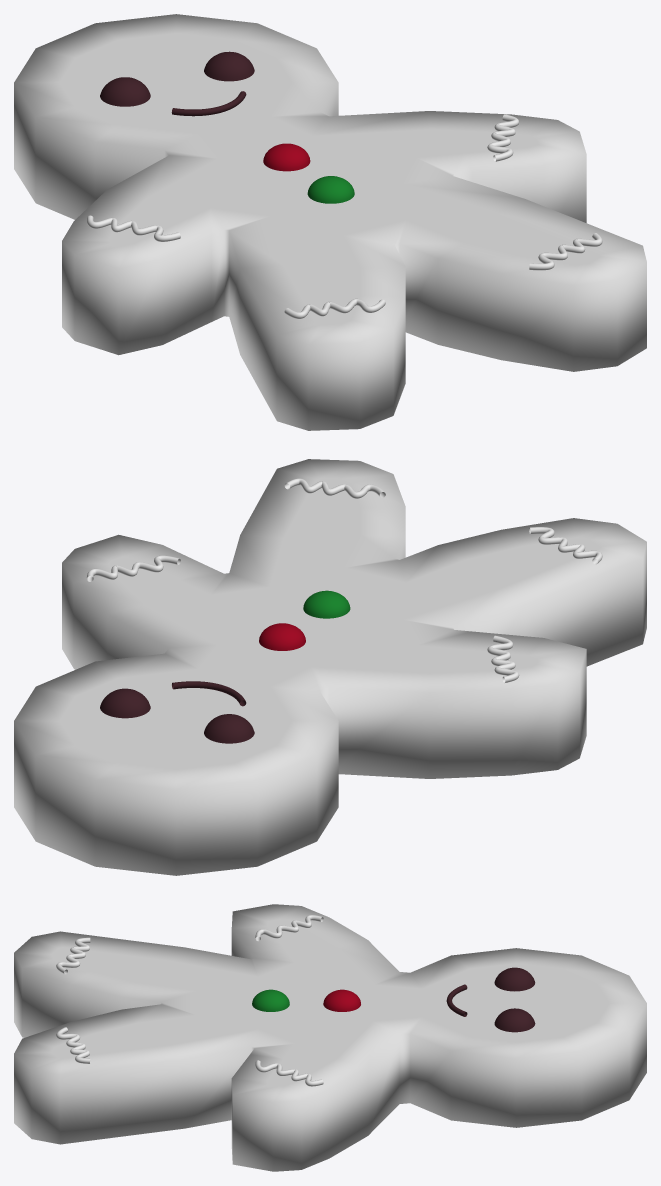
The model's file is ggb1.glb.
3 renders of one model, top to bottom at view 1: azimuth 30°, elevation 25°; view 2: azimuth 150°, elevation 25°; view 3: azimuth 270°, elevation 25°, orthographic. The views are drawn at different scales.
Visible parts, largest first — view 1: Circle.048, Sphere.028, NurbsPath.023, NurbsPath.022, Sphere.005, Sphere.004; view 2: Circle.048, Sphere.028, NurbsPath.023, NurbsPath.022, Sphere.004, Sphere.005; view 3: Circle.048, Sphere.028, NurbsPath.023, NurbsPath.022, Sphere.005, Sphere.004.
Boxes of the visible parts, x1,y1,x2,y2 form: Circle.048: (14, 14, 646, 430); Sphere.028: (100, 51, 254, 106); NurbsPath.023: (86, 114, 519, 241); NurbsPath.022: (284, 233, 602, 318); Sphere.005: (263, 143, 310, 171); Sphere.004: (307, 176, 354, 203); Circle.048: (14, 459, 646, 875); Sphere.028: (100, 688, 254, 743); NurbsPath.023: (86, 555, 519, 682); NurbsPath.022: (284, 478, 602, 564); Sphere.004: (303, 590, 350, 618); Sphere.005: (259, 623, 305, 650); Circle.048: (14, 904, 646, 1171); Sphere.028: (494, 967, 535, 1032); NurbsPath.023: (255, 915, 323, 1086); NurbsPath.022: (56, 937, 90, 1063); Sphere.005: (323, 989, 360, 1011); Sphere.004: (252, 989, 289, 1011).
Bounding box in the file's own units: 3.59 × 0.6971 × 4.85.
